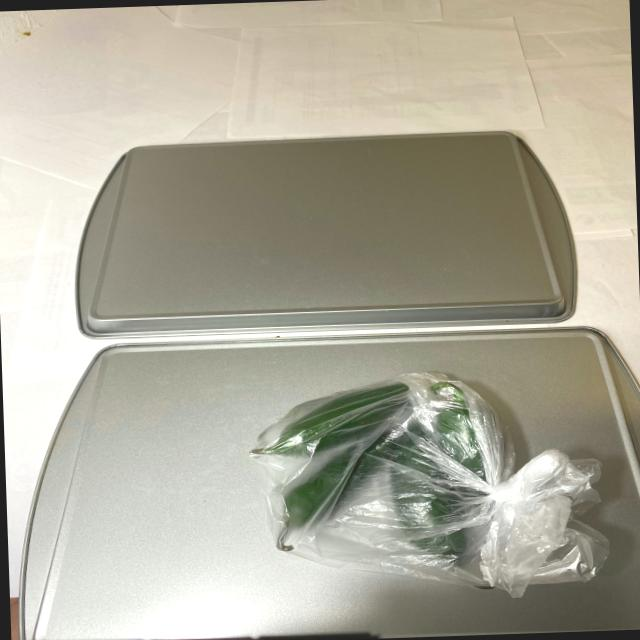chilli: (249, 370, 522, 600)
